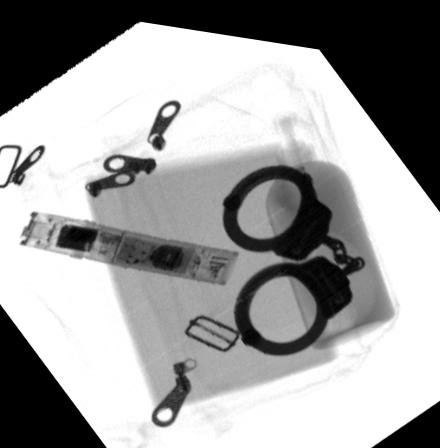Baton: (16, 208, 238, 280)
HandCuffs: (220, 154, 367, 348)
